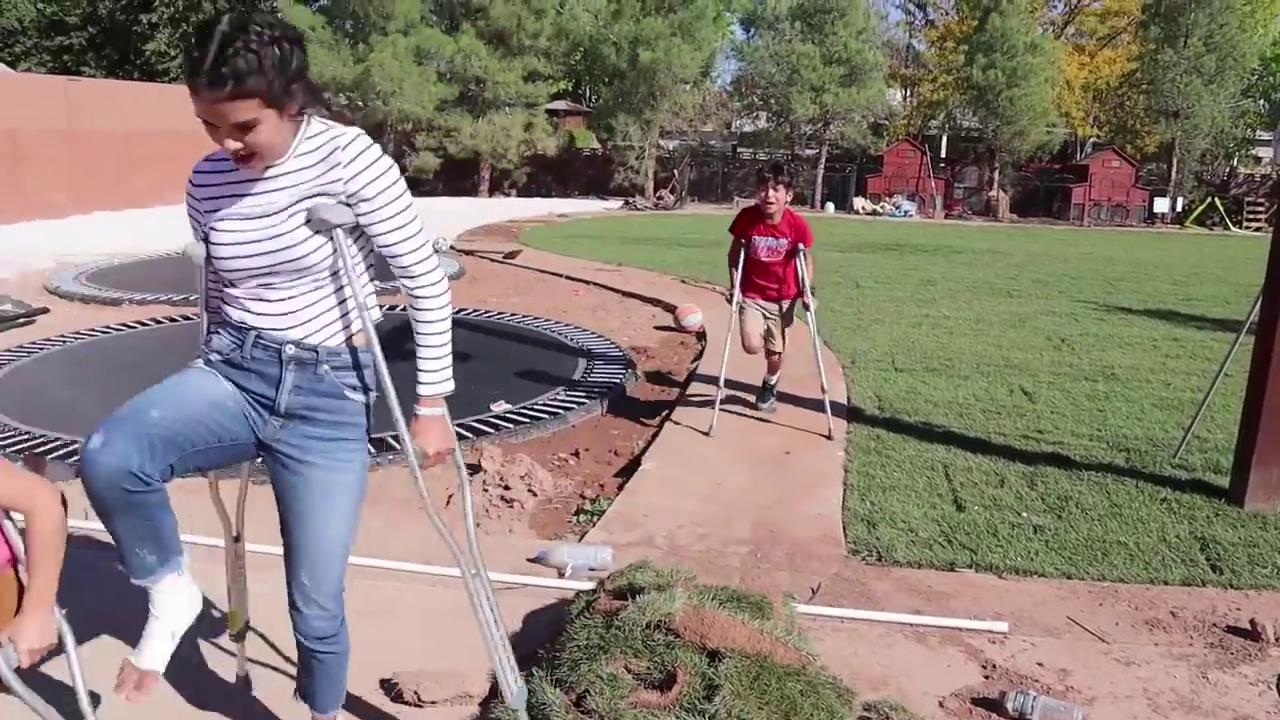crutches: (706, 163, 837, 445)
